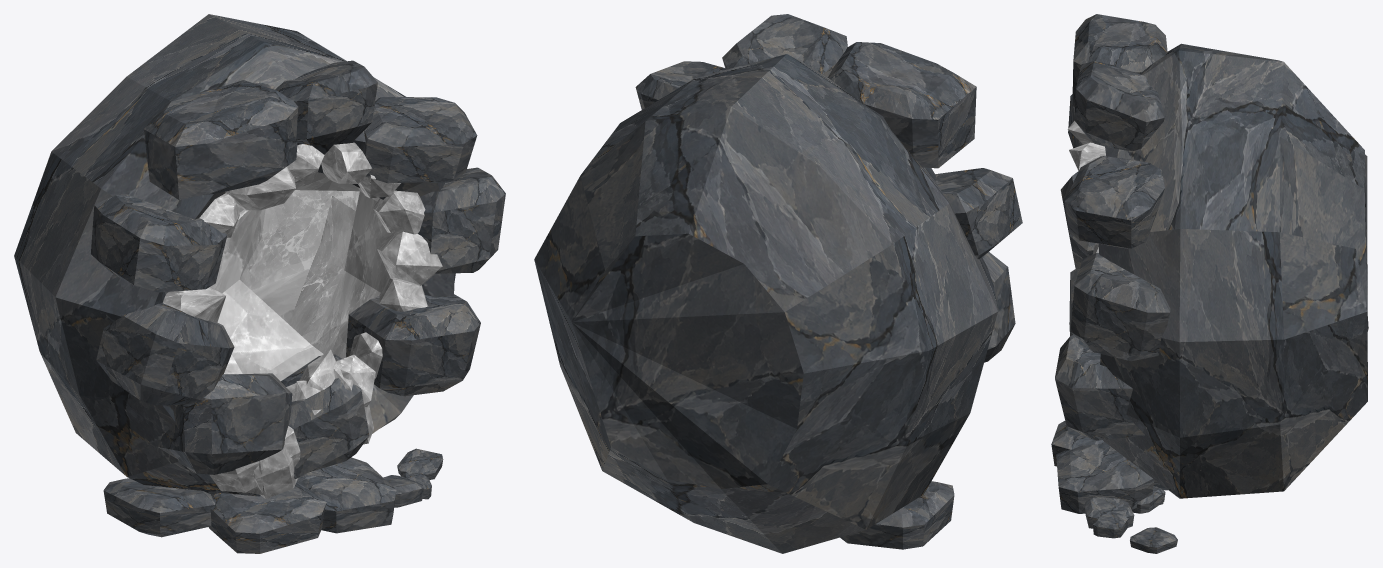
File: Ore_B5.fbx
3 views of the same model, side by side, from view 1: azimuth 30°, elevation 25°; view 2: azimuth 150°, elevation 25°; view 3: azimuth 270°, elevation 25° (orthographic). The views are drawn at different scales.
Parts seen in each view (by area): view 1: Ore_B5_LOD0; view 2: Ore_B5_LOD0; view 3: Ore_B5_LOD0.
Part boxes in pixels (left/top/right/bottom): Ore_B5_LOD0: left=14, top=14, right=505, bottom=553; Ore_B5_LOD0: left=534, top=14, right=1022, bottom=553; Ore_B5_LOD0: left=1051, top=14, right=1368, bottom=553.
Size of what is drawn, in the model's own units: 1.83 by 1.94 by 1.28.
Materials: 2 (2 with a texture image).
